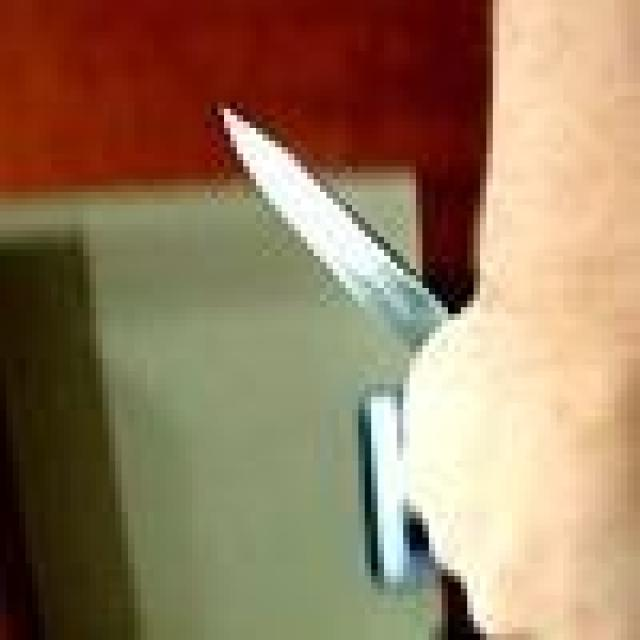senjata_tajam: (210, 99, 459, 358)
